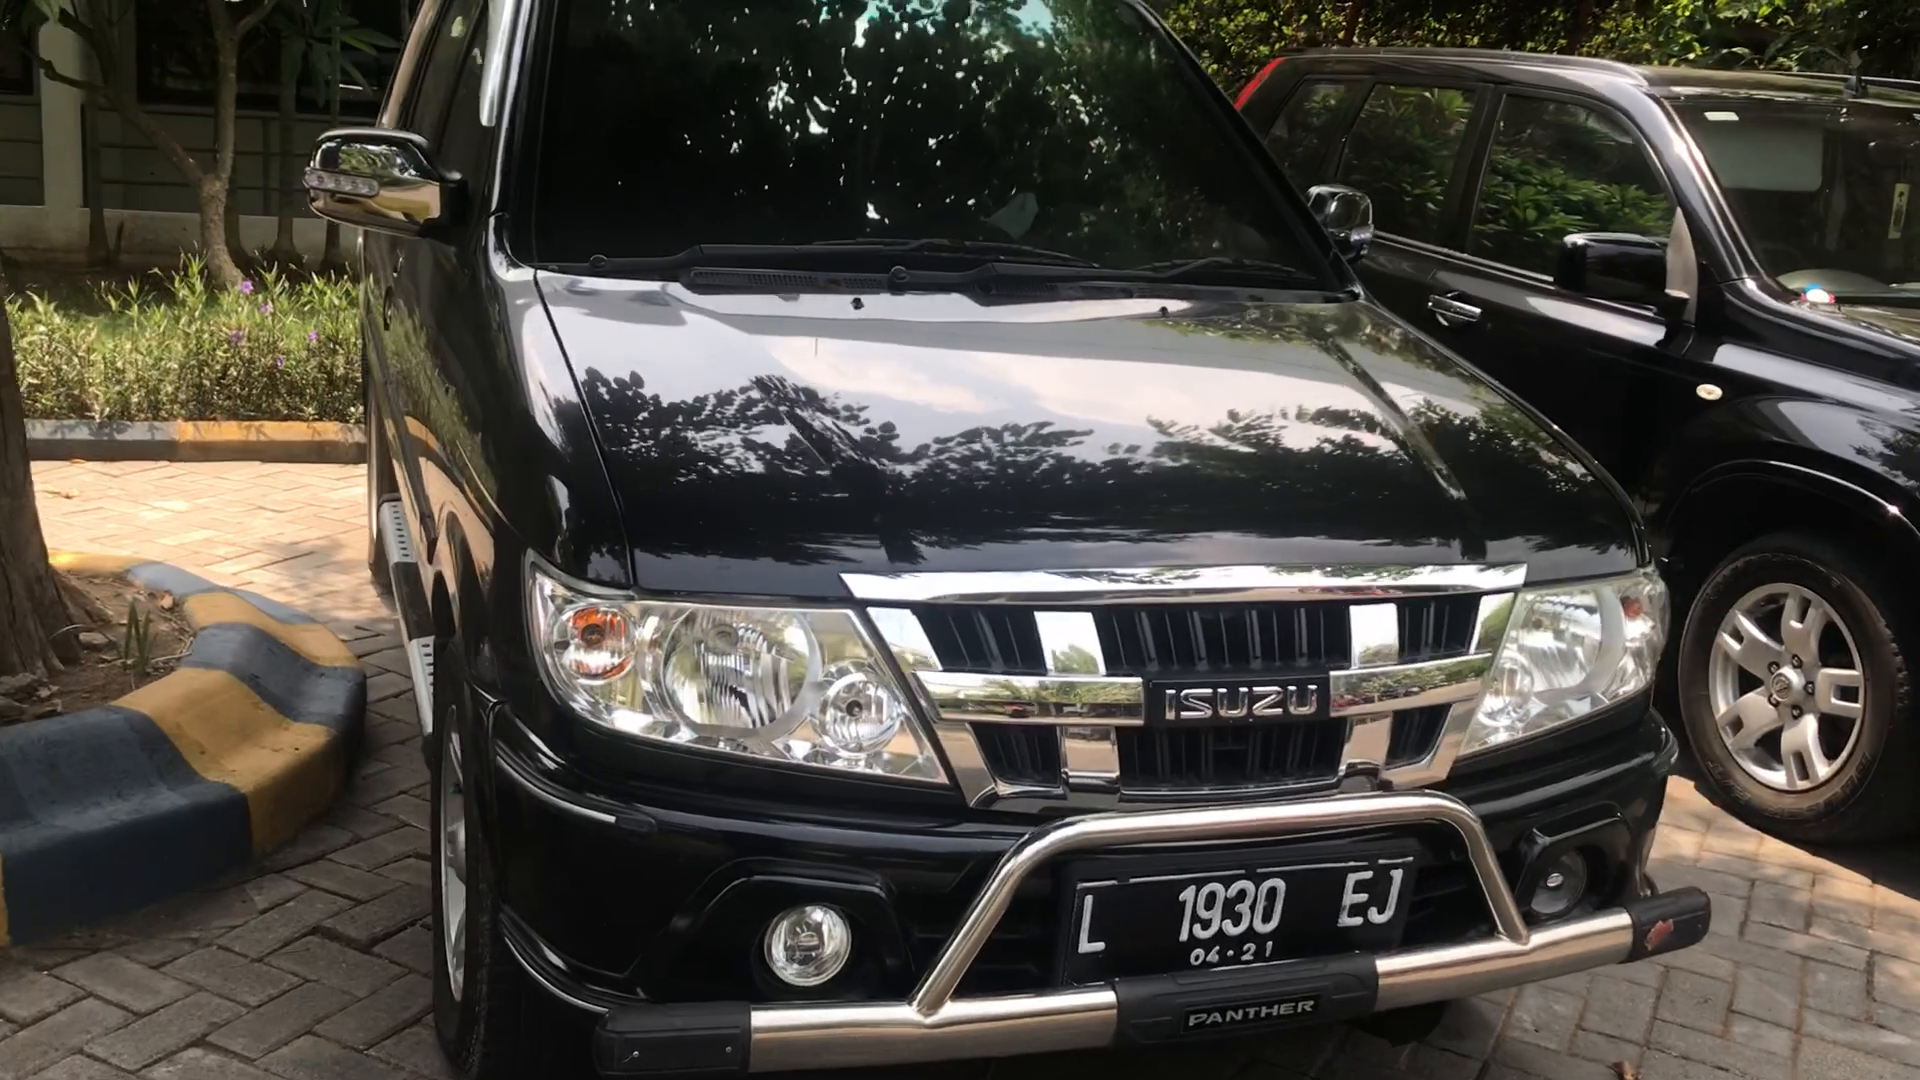plate: (1067, 840, 1415, 980)
